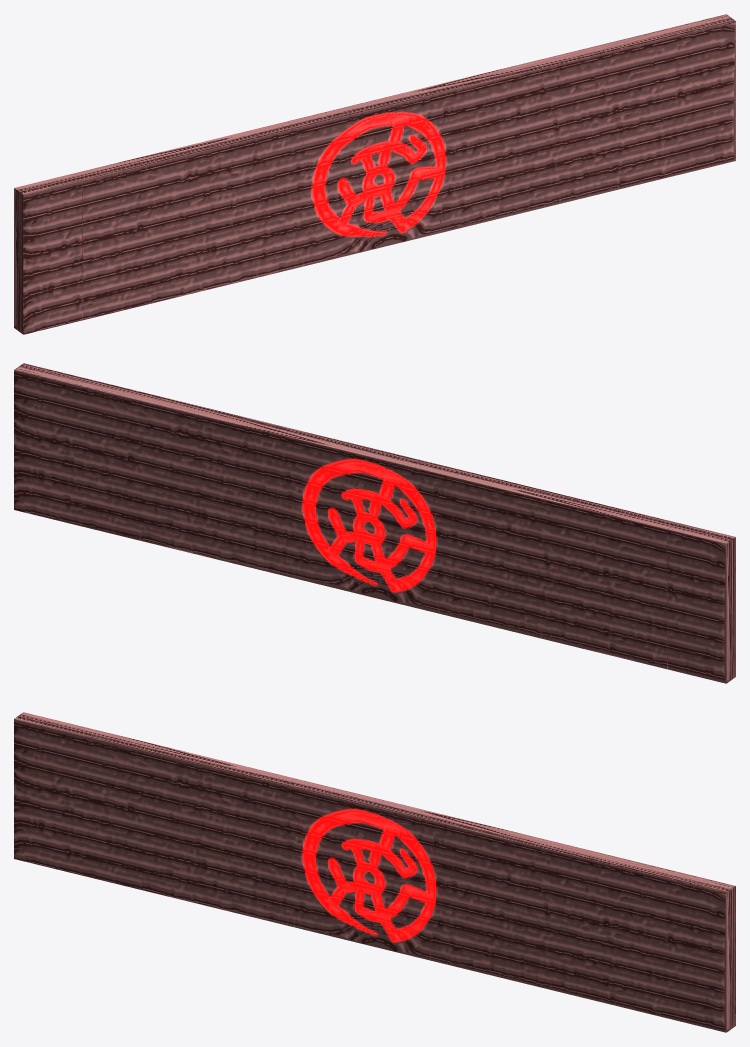
The model's file is BarreraLaberinto_Rota.fbx.
The picture shows the model from 3 angles, top to bottom: view 1: azimuth 30°, elevation 25°; view 2: azimuth 150°, elevation 25°; view 3: azimuth 330°, elevation 25°; orthographic projection.
Visible parts, largest first — view 1: BarreraLaberinto_cell.004, BarreraLaberinto_cell.001, BarreraLaberinto_cell.009, BarreraLaberinto_cell.003, BarreraLaberinto_cell.002, BarreraLaberinto_cell, BarreraLaberinto_cell.008, BarreraLaberinto_cell.005, BarreraLaberinto_cell.007, BarreraLaberinto_cell.006; view 2: BarreraLaberinto_cell.004, BarreraLaberinto_cell.001, BarreraLaberinto_cell.009, BarreraLaberinto_cell.003, BarreraLaberinto_cell.002, BarreraLaberinto_cell, BarreraLaberinto_cell.008, BarreraLaberinto_cell.005, BarreraLaberinto_cell.007, BarreraLaberinto_cell.006; view 3: BarreraLaberinto_cell.004, BarreraLaberinto_cell.001, BarreraLaberinto_cell.003, BarreraLaberinto_cell.009, BarreraLaberinto_cell.002, BarreraLaberinto_cell, BarreraLaberinto_cell.008, BarreraLaberinto_cell.005, BarreraLaberinto_cell.007, BarreraLaberinto_cell.006.
Part boxes in pixels (bbox=[...]): BarreraLaberinto_cell.004: bbox=[170, 121, 325, 288]; BarreraLaberinto_cell.001: bbox=[73, 150, 211, 320]; BarreraLaberinto_cell.009: bbox=[428, 40, 630, 160]; BarreraLaberinto_cell.003: bbox=[621, 14, 735, 172]; BarreraLaberinto_cell.002: bbox=[552, 50, 688, 204]; BarreraLaberinto_cell: bbox=[287, 87, 449, 189]; BarreraLaberinto_cell.008: bbox=[14, 173, 82, 334]; BarreraLaberinto_cell.005: bbox=[433, 136, 556, 232]; BarreraLaberinto_cell.007: bbox=[313, 159, 451, 249]; BarreraLaberinto_cell.006: bbox=[307, 219, 439, 265]; BarreraLaberinto_cell.004: bbox=[423, 470, 577, 638]; BarreraLaberinto_cell.001: bbox=[540, 498, 676, 669]; BarreraLaberinto_cell.009: bbox=[119, 389, 323, 507]; BarreraLaberinto_cell.003: bbox=[14, 363, 128, 521]; BarreraLaberinto_cell.002: bbox=[61, 399, 190, 552]; BarreraLaberinto_cell: bbox=[298, 436, 462, 541]; BarreraLaberinto_cell.008: bbox=[667, 522, 735, 683]; BarreraLaberinto_cell.005: bbox=[191, 482, 316, 582]; BarreraLaberinto_cell.007: bbox=[300, 511, 434, 598]; BarreraLaberinto_cell.006: bbox=[312, 569, 440, 613]; BarreraLaberinto_cell.004: bbox=[172, 750, 323, 927]; BarreraLaberinto_cell.001: bbox=[73, 726, 202, 904]; BarreraLaberinto_cell.003: bbox=[620, 860, 735, 1032]; BarreraLaberinto_cell.009: bbox=[425, 813, 630, 919]; BarreraLaberinto_cell.002: bbox=[547, 870, 678, 1020]; BarreraLaberinto_cell: bbox=[287, 779, 439, 890]; BarreraLaberinto_cell.008: bbox=[14, 712, 82, 873]; BarreraLaberinto_cell.005: bbox=[431, 894, 547, 988]; BarreraLaberinto_cell.007: bbox=[304, 861, 442, 946]; BarreraLaberinto_cell.006: bbox=[298, 916, 431, 960].
Size of the model in its own units: 1090 by 205 by 25.01.
